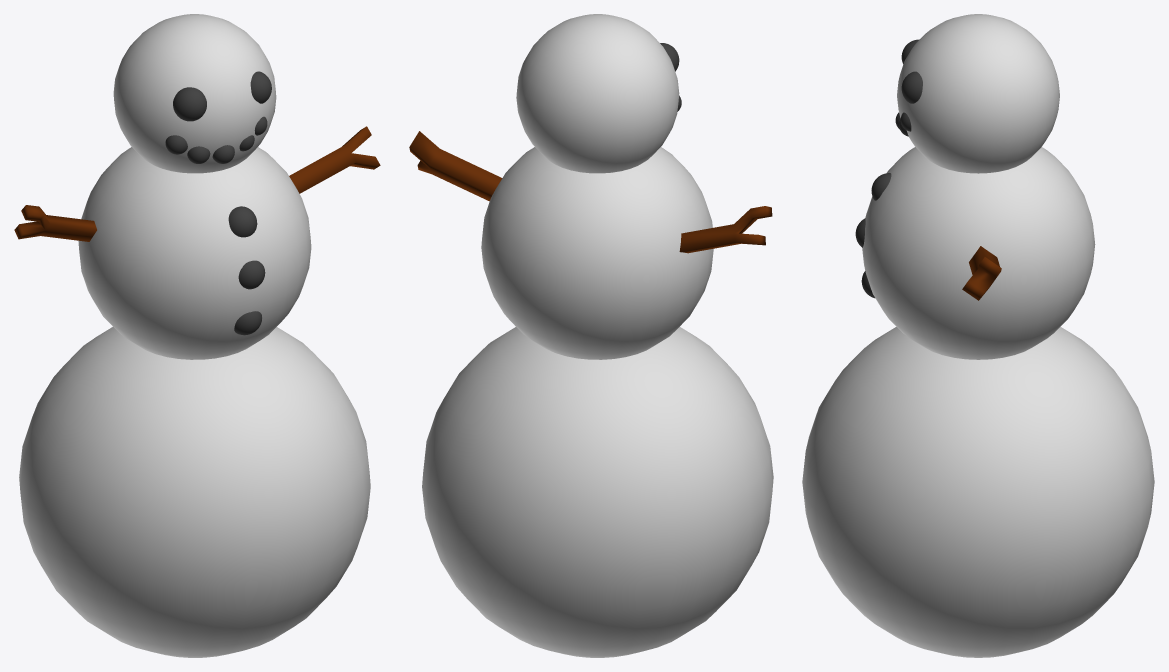
The model's file is snowman.fbx.
3 renders of one model, left to right at view 1: azimuth 30°, elevation 25°; view 2: azimuth 150°, elevation 25°; view 3: azimuth 270°, elevation 25°, orthographic.
Visible parts, largest first — view 1: Sphere; view 2: Sphere; view 3: Sphere.
Part boxes in pixels (x1,y1,x2,y2): Sphere: [14, 14, 380, 657]; Sphere: [409, 14, 773, 657]; Sphere: [802, 14, 1154, 657].
Size of the model in its own units: 230 by 388 by 200.
